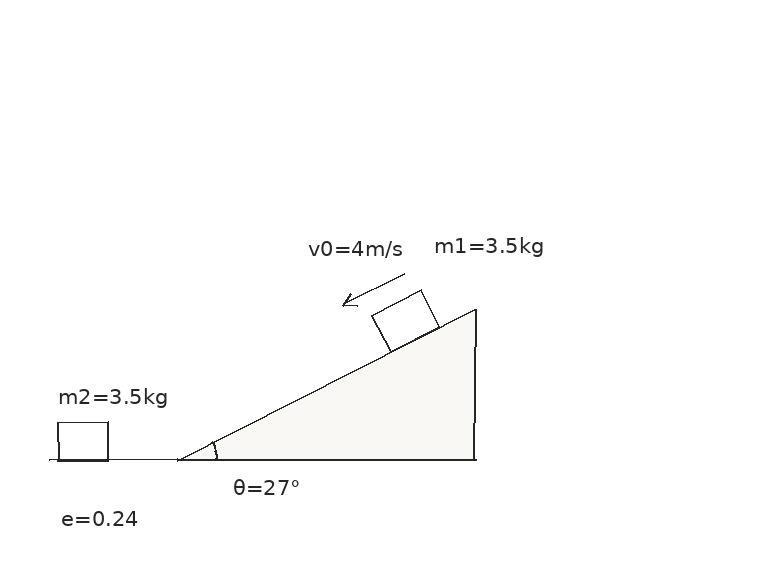block: (369, 288, 441, 354), (55, 421, 111, 462)
ramp: (175, 306, 477, 462)
